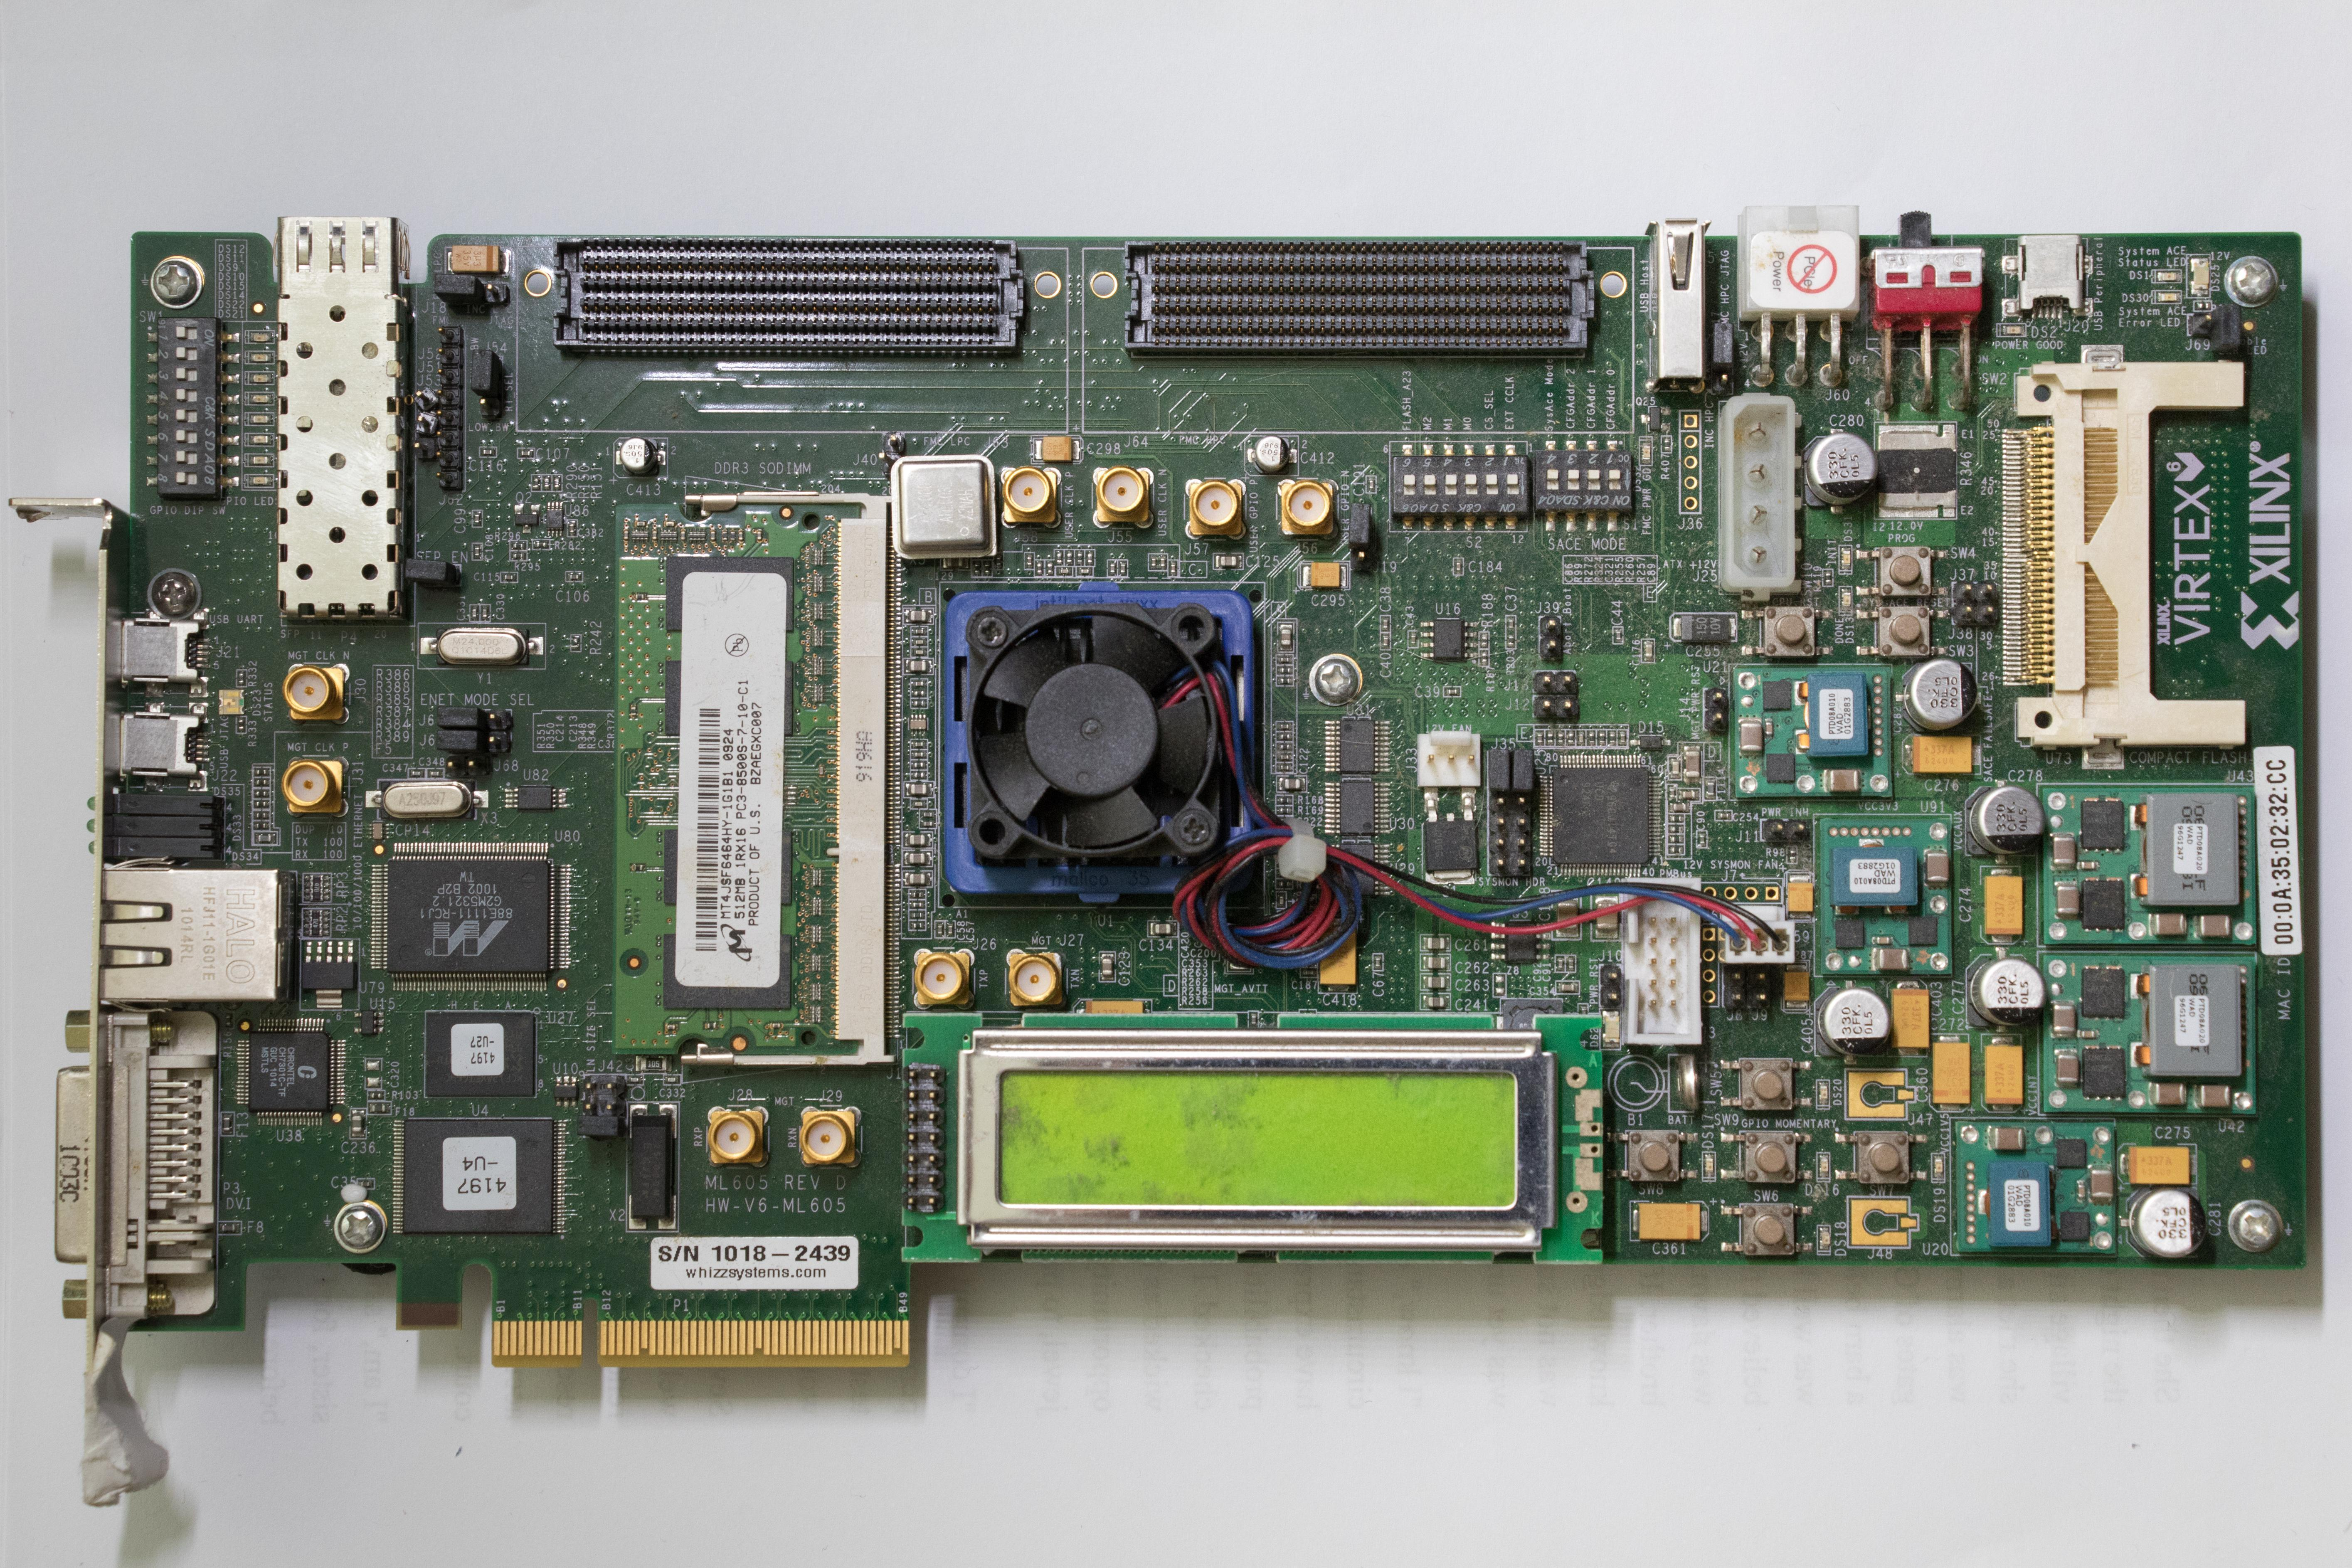Button: (1833, 1131, 1927, 1183), (1719, 1059, 1813, 1110), (1722, 1203, 1813, 1255), (1741, 607, 1832, 658), (1856, 606, 1945, 656), (1856, 547, 1947, 595), (1720, 1132, 1812, 1180), (1615, 1129, 1696, 1180)
Capacitor: (1588, 888, 1621, 939), (1550, 890, 1582, 939), (1923, 849, 1949, 888), (1871, 947, 1912, 972), (2053, 1001, 2080, 1040), (2053, 1048, 2080, 1089), (2147, 1080, 2188, 1106), (2087, 1163, 2113, 1205), (1822, 769, 1864, 792), (2147, 912, 2190, 936), (2191, 1082, 2233, 1107), (2053, 880, 2079, 920), (2194, 914, 2231, 939), (1738, 717, 1762, 757), (1987, 1126, 2026, 1150), (2050, 833, 2076, 872), (901, 656, 934, 675), (902, 780, 935, 799), (348, 1107, 367, 1140), (1212, 552, 1244, 570), (900, 830, 933, 849), (900, 849, 932, 868), (901, 870, 933, 889), (1267, 566, 1285, 598), (902, 608, 934, 625), (1277, 775, 1307, 792), (1146, 921, 1178, 937), (1420, 934, 1450, 952), (1420, 953, 1450, 971), (1098, 947, 1115, 979), (1420, 974, 1450, 991), (1419, 993, 1450, 1010), (1640, 636, 1656, 663), (368, 821, 387, 841), (1555, 980, 1580, 994), (469, 508, 483, 528), (940, 558, 967, 569), (563, 570, 584, 583), (477, 446, 498, 458), (515, 447, 535, 459), (2077, 860, 2098, 871), (2077, 1028, 2101, 1038), (2076, 1180, 2086, 1203), (1504, 614, 1516, 633), (1627, 729, 1638, 747), (1298, 965, 1317, 979), (355, 1178, 375, 1190), (1453, 556, 1464, 577), (1613, 626, 1623, 645), (1888, 927, 1910, 938), (471, 542, 483, 561), (427, 768, 444, 780), (1696, 829, 1708, 848), (1366, 475, 1376, 493), (566, 518, 577, 537), (469, 603, 480, 622), (481, 603, 492, 623), (1380, 615, 1390, 633), (1410, 627, 1421, 645), (1713, 810, 1733, 821), (934, 920, 945, 939), (945, 920, 955, 939), (663, 1074, 682, 1085), (500, 572, 518, 583), (1380, 633, 1390, 651), (408, 768, 426, 779), (1373, 953, 1383, 970), (1554, 955, 1565, 972), (1566, 955, 1576, 973), (628, 1074, 644, 1084), (1576, 729, 1586, 748)
Connector: (2005, 345, 2249, 771), (513, 234, 1066, 360), (1082, 235, 1629, 360), (25, 1005, 234, 1328), (274, 216, 408, 624), (91, 866, 296, 1002), (1720, 391, 1802, 602), (1620, 885, 1699, 1052), (1650, 215, 1707, 394), (119, 702, 209, 791), (121, 607, 209, 698), (2002, 234, 2091, 317), (903, 1062, 944, 1215), (435, 324, 466, 492), (1418, 731, 1479, 812), (1719, 904, 1795, 963), (280, 663, 350, 725), (281, 755, 349, 818), (1091, 466, 1154, 530), (912, 947, 974, 1011), (799, 1104, 860, 1171), (999, 466, 1062, 529), (1183, 477, 1246, 539), (706, 1104, 768, 1169), (1275, 478, 1338, 541), (1006, 947, 1067, 1008), (1488, 795, 1530, 875), (1678, 409, 1702, 514), (1531, 671, 1579, 717), (1722, 964, 1771, 1008), (1950, 581, 1997, 624), (582, 1075, 626, 1114), (1699, 920, 1717, 1008), (1700, 885, 1782, 903), (486, 709, 513, 755), (1704, 693, 1733, 739), (1760, 819, 1809, 843), (1597, 964, 1620, 1013), (1538, 615, 1563, 660), (440, 756, 490, 779), (881, 432, 905, 475), (412, 434, 438, 462), (411, 385, 439, 410), (2187, 313, 2212, 337), (412, 409, 438, 435), (482, 280, 508, 305), (477, 396, 503, 419), (1349, 548, 1371, 573)
Diode: (1630, 736, 1672, 750)
Electrolytic Capacitor: (1967, 947, 2046, 1032), (1801, 430, 1879, 514), (2119, 1187, 2207, 1258), (1967, 782, 2046, 858), (1902, 661, 1980, 733), (1816, 984, 1890, 1058), (1978, 865, 2025, 945), (2118, 1143, 2196, 1186), (1903, 734, 1980, 775), (1981, 1035, 2024, 1111), (1930, 1035, 1971, 1112), (1630, 1201, 1709, 1241), (1889, 978, 1930, 1055), (1316, 919, 1357, 993), (1247, 432, 1314, 476), (614, 437, 667, 477), (444, 244, 509, 274), (1676, 612, 1744, 641), (1297, 561, 1350, 590), (511, 462, 566, 490), (1785, 869, 1814, 920), (1781, 962, 1809, 1014)
IC: (942, 595, 1265, 920), (373, 844, 572, 990), (390, 1121, 568, 1235), (1538, 755, 1660, 874), (2130, 791, 2239, 908), (2136, 962, 2242, 1080), (424, 1010, 537, 1097), (1986, 979, 2056, 1070), (300, 938, 359, 1010), (1324, 778, 1389, 834), (1324, 718, 1390, 774), (1328, 843, 1391, 898), (2080, 1045, 2125, 1099), (1489, 921, 1550, 961), (2080, 799, 2124, 854), (1420, 618, 1477, 659), (2080, 965, 2123, 1017), (2083, 881, 2123, 933), (504, 784, 571, 810), (2054, 1136, 2086, 1169), (1833, 919, 1866, 950), (2059, 1210, 2090, 1243), (1907, 917, 1938, 947), (1763, 673, 1792, 704), (1765, 752, 1795, 783), (353, 1010, 385, 1035), (553, 1075, 578, 1107), (546, 501, 563, 537)
Led: (83, 791, 225, 861), (2187, 254, 2209, 298), (216, 688, 244, 716), (242, 368, 276, 387), (242, 328, 275, 345), (244, 411, 275, 428), (1700, 1150, 1716, 1181), (1838, 543, 1853, 575), (244, 432, 275, 447), (1815, 1078, 1831, 1110), (244, 350, 275, 366), (245, 451, 275, 468), (1814, 1151, 1830, 1182), (243, 473, 275, 489), (243, 391, 275, 407), (1639, 436, 1653, 465), (1930, 1153, 1945, 1183), (1816, 1224, 1831, 1255), (2151, 270, 2181, 283), (2152, 290, 2182, 304), (1997, 323, 2025, 337), (1840, 586, 1852, 615)
Pads: (491, 1319, 912, 1367), (1845, 1068, 1916, 1122), (1847, 1195, 1919, 1247), (363, 1058, 382, 1090), (1492, 973, 1506, 997)
Resistor: (301, 872, 332, 903), (302, 907, 332, 939), (636, 1055, 671, 1071), (811, 547, 825, 567), (810, 684, 826, 703), (687, 528, 705, 544), (811, 603, 825, 621), (811, 629, 825, 646), (809, 1006, 824, 1024), (1659, 434, 1672, 454), (630, 529, 648, 542), (811, 574, 825, 593), (811, 657, 824, 677), (809, 925, 822, 945), (551, 473, 563, 493), (251, 778, 271, 789), (251, 799, 271, 810), (251, 820, 271, 831), (809, 954, 822, 972), (808, 983, 822, 1001), (1822, 568, 1834, 587), (235, 715, 247, 733), (1565, 729, 1577, 749), (252, 788, 271, 799), (810, 868, 822, 887), (810, 898, 822, 917), (2193, 300, 2212, 311), (659, 529, 676, 543), (510, 540, 526, 550), (509, 550, 528, 562), (570, 633, 582, 651), (530, 473, 541, 492), (531, 538, 550, 550), (1478, 631, 1489, 649), (1480, 670, 1491, 689), (251, 767, 271, 778), (1787, 845, 1797, 864), (542, 473, 551, 493), (1595, 724, 1605, 745), (1555, 729, 1565, 748), (251, 810, 270, 820), (223, 1011, 235, 1030), (367, 1090, 385, 1101), (1605, 728, 1614, 747), (236, 668, 246, 687), (1545, 729, 1554, 748), (1588, 730, 1597, 747), (1275, 794, 1293, 804), (1275, 807, 1292, 814)
Switch: (2002, 207, 2122, 409), (1389, 440, 1529, 532), (1531, 440, 1635, 531)
Transistor: (1423, 816, 1477, 885), (1638, 406, 1671, 431)
